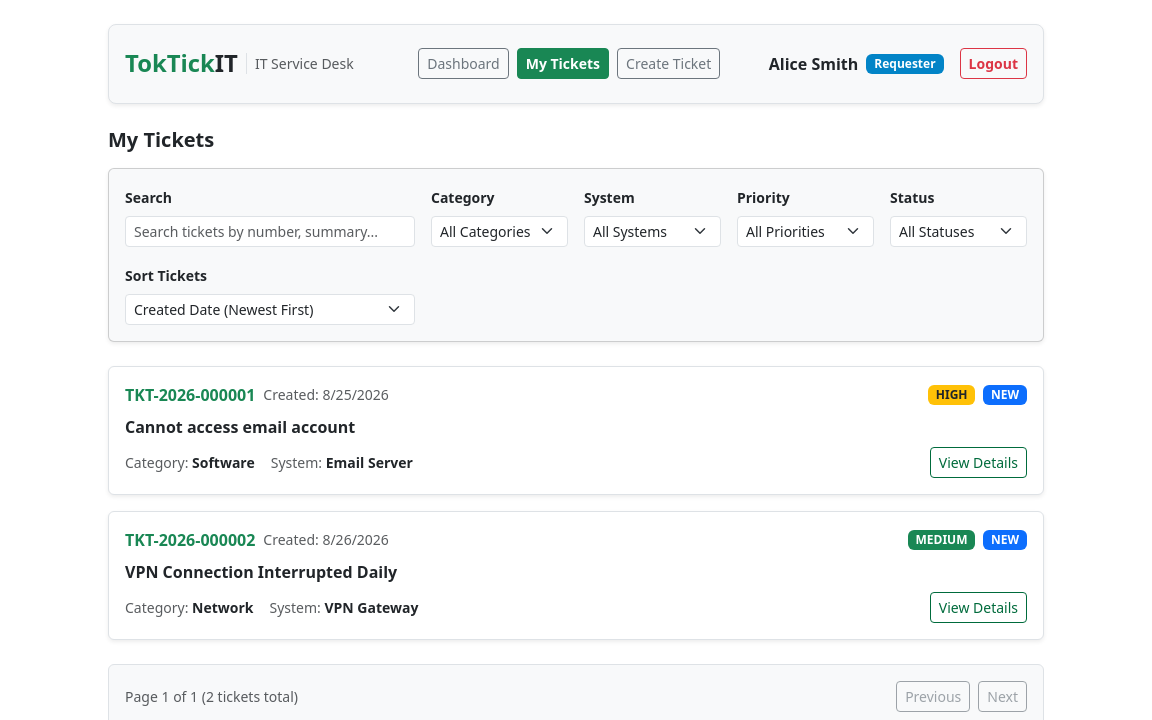
Issue #29: My Tickets & Ticket Detail Requester UI Suite › 3. My Tickets Empty, No-Results & Failure States (BR-26, AC-12, AC-13, AC-14) › displays no-results card with 'Clear Filters' button when search/filter match 0 tickets
Expected: the button "My Tickets" is shown, [517,48,609,79]
Type "nonexistent" into the field with placeholder "Search tickets by number, summary..." at (270, 231), box [125,216,415,247]
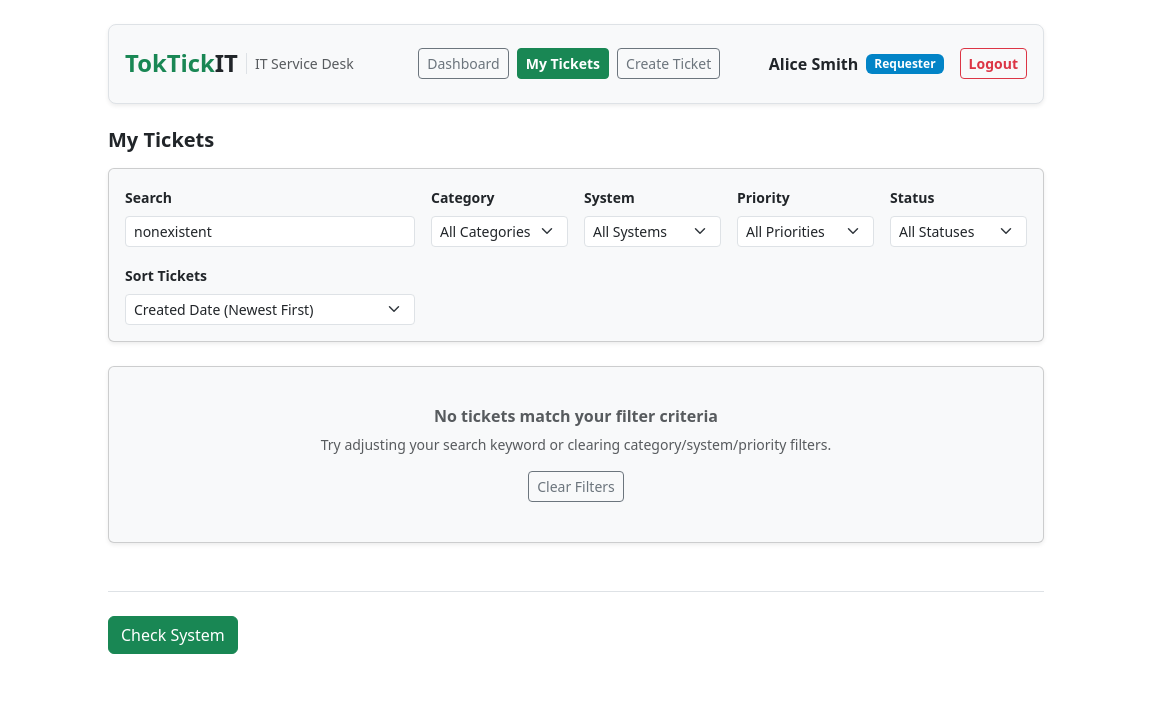
Expected: the heading "No tickets match your filter criteria" is shown, [434,405,718,427]
Expected: the button "Clear Filters" is shown, [528,471,624,502]
